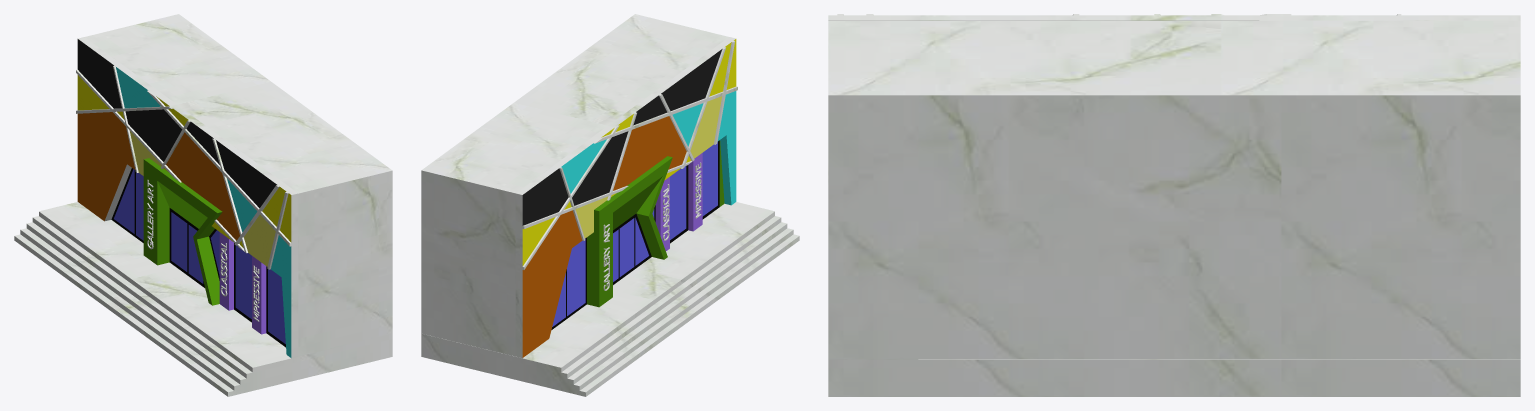
Rendered from Toabosua.obj.
The picture shows the model from 3 angles, left to right: view 1: azimuth 30°, elevation 25°; view 2: azimuth 150°, elevation 25°; view 3: azimuth 270°, elevation 25°; orthographic projection. The views are drawn at different scales.
Parts seen in each view (by area): view 1: Mesh6 Group8 Group1 T_a_b__s_a1 Model, Mesh5 Group7 Group3 Group1 T_a_b__s_a1 Model, Mesh1 Group2 Group1 T_a_b__s_a1 Model, Mesh2 Group4 Group3 Group1 T_a_b__s_a1 Model, Mesh4 Group6 Group3 Group1 T_a_b__s_a1 Model, Mesh3 Group5 Group3 Group1 T_a_b__s_a1 Model; view 2: Mesh6 Group8 Group1 T_a_b__s_a1 Model, Mesh5 Group7 Group3 Group1 T_a_b__s_a1 Model, Mesh1 Group2 Group1 T_a_b__s_a1 Model, Mesh2 Group4 Group3 Group1 T_a_b__s_a1 Model, Mesh4 Group6 Group3 Group1 T_a_b__s_a1 Model, Mesh3 Group5 Group3 Group1 T_a_b__s_a1 Model; view 3: Mesh6 Group8 Group1 T_a_b__s_a1 Model, Mesh1 Group2 Group1 T_a_b__s_a1 Model, Mesh5 Group7 Group3 Group1 T_a_b__s_a1 Model.
Part boxes in pixels (box(x1,y1,x2,y2)): Mesh6 Group8 Group1 T_a_b__s_a1 Model: box(85, 14, 392, 356); Mesh5 Group7 Group3 Group1 T_a_b__s_a1 Model: box(76, 37, 298, 358); Mesh1 Group2 Group1 T_a_b__s_a1 Model: box(14, 202, 392, 396); Mesh2 Group4 Group3 Group1 T_a_b__s_a1 Model: box(143, 158, 222, 305); Mesh4 Group6 Group3 Group1 T_a_b__s_a1 Model: box(252, 256, 266, 334); Mesh3 Group5 Group3 Group1 T_a_b__s_a1 Model: box(219, 232, 233, 310); Mesh6 Group8 Group1 T_a_b__s_a1 Model: box(421, 14, 728, 356); Mesh5 Group7 Group3 Group1 T_a_b__s_a1 Model: box(515, 37, 737, 358); Mesh1 Group2 Group1 T_a_b__s_a1 Model: box(421, 202, 799, 396); Mesh2 Group4 Group3 Group1 T_a_b__s_a1 Model: box(587, 156, 672, 307); Mesh4 Group6 Group3 Group1 T_a_b__s_a1 Model: box(688, 153, 702, 231); Mesh3 Group5 Group3 Group1 T_a_b__s_a1 Model: box(655, 177, 669, 250); Mesh6 Group8 Group1 T_a_b__s_a1 Model: box(828, 20, 1520, 359); Mesh1 Group2 Group1 T_a_b__s_a1 Model: box(828, 359, 1520, 396); Mesh5 Group7 Group3 Group1 T_a_b__s_a1 Model: box(828, 14, 1520, 20).
Bounding box in the file's own units: 7438 × 8052 × 16742.
Materials: 11 (1 with a texture image).
